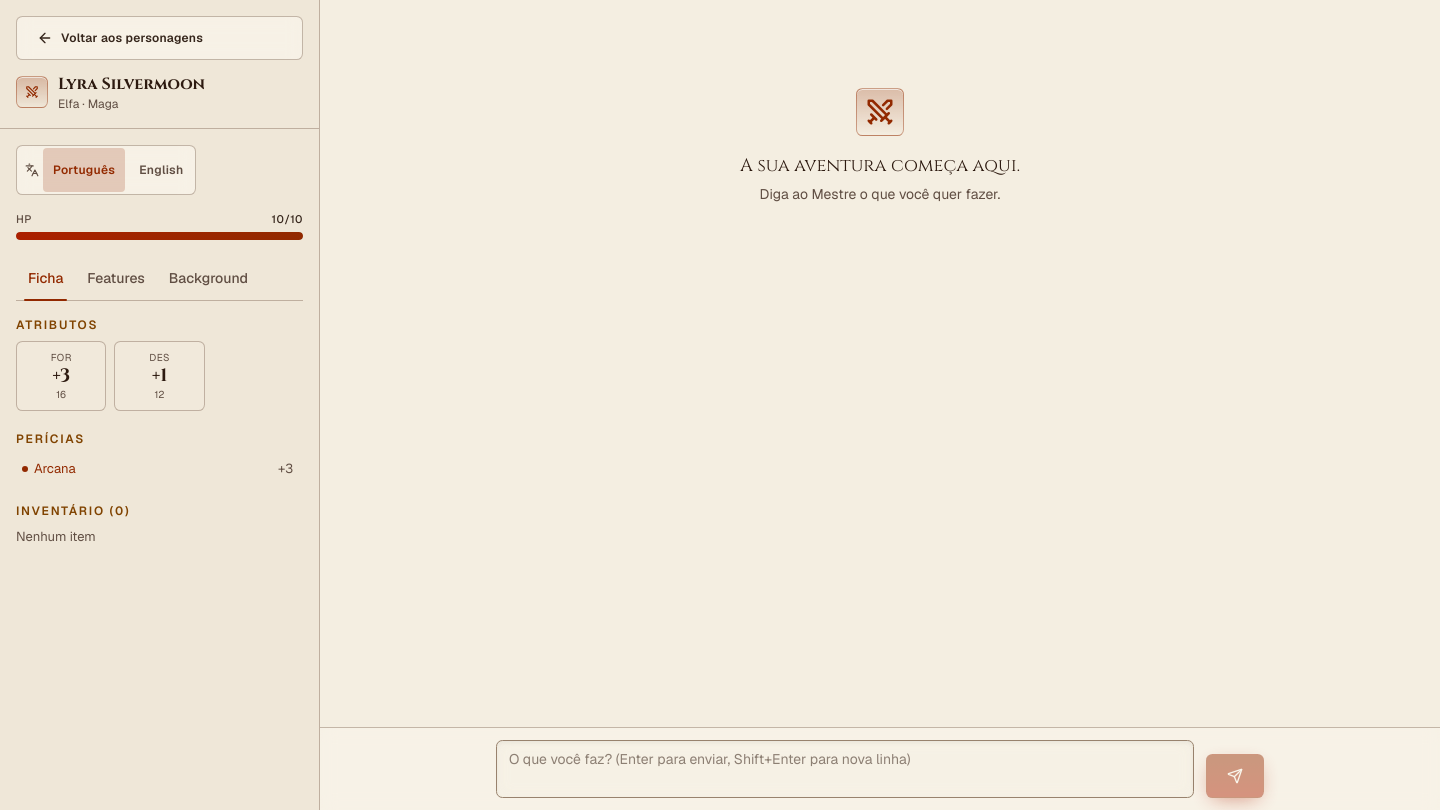
Scenario: GameView — abas na ficha (US-45) › mostra a divindade (nome + portfólio) na aba Background quando presente
Click the tab "Background" at (208, 278), box [157,256,260,300]
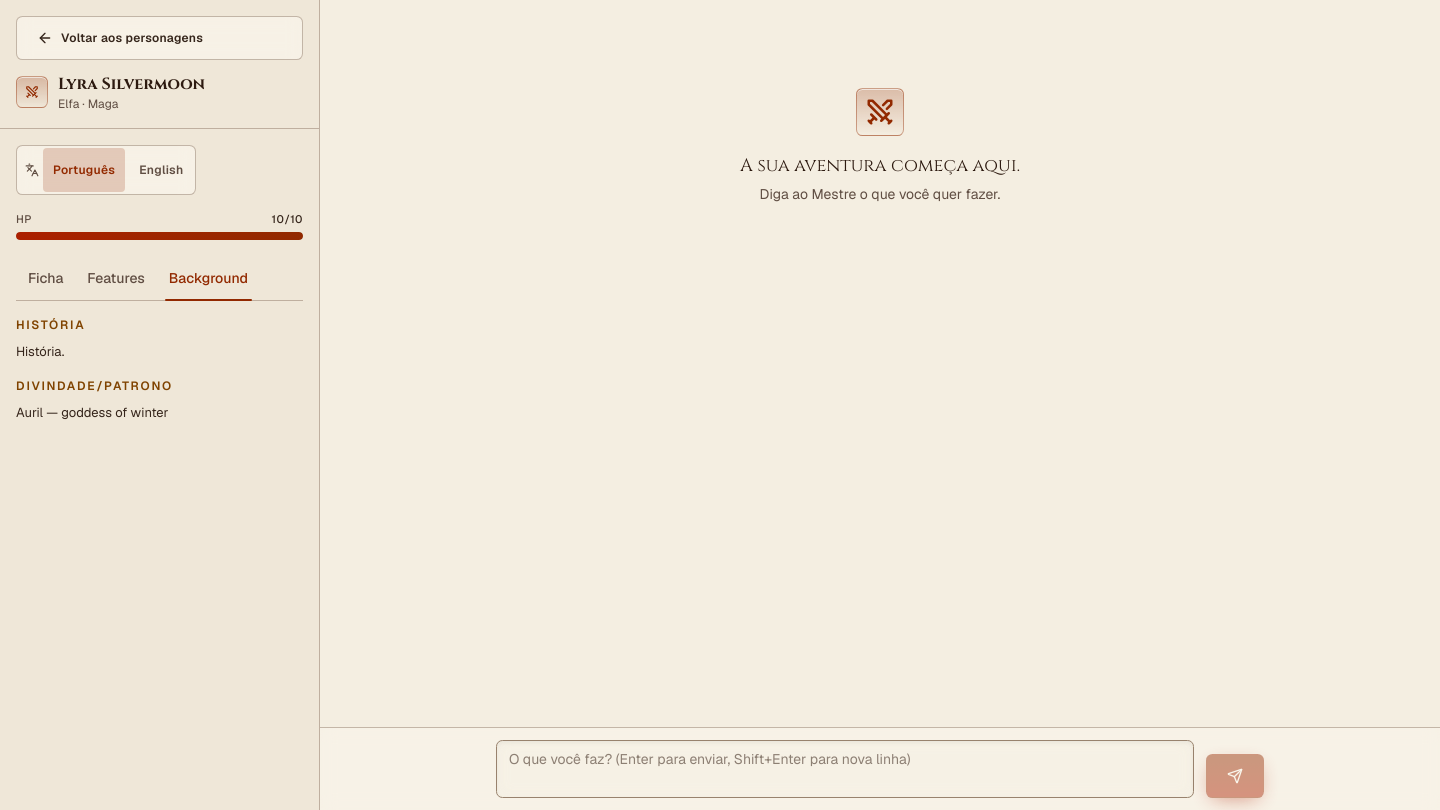
Check: the heading "Divindade/Patrono" is shown, box [16,378,173,394]
Check: the text "Auril — goddess of winter" is shown, box [16,404,168,421]
